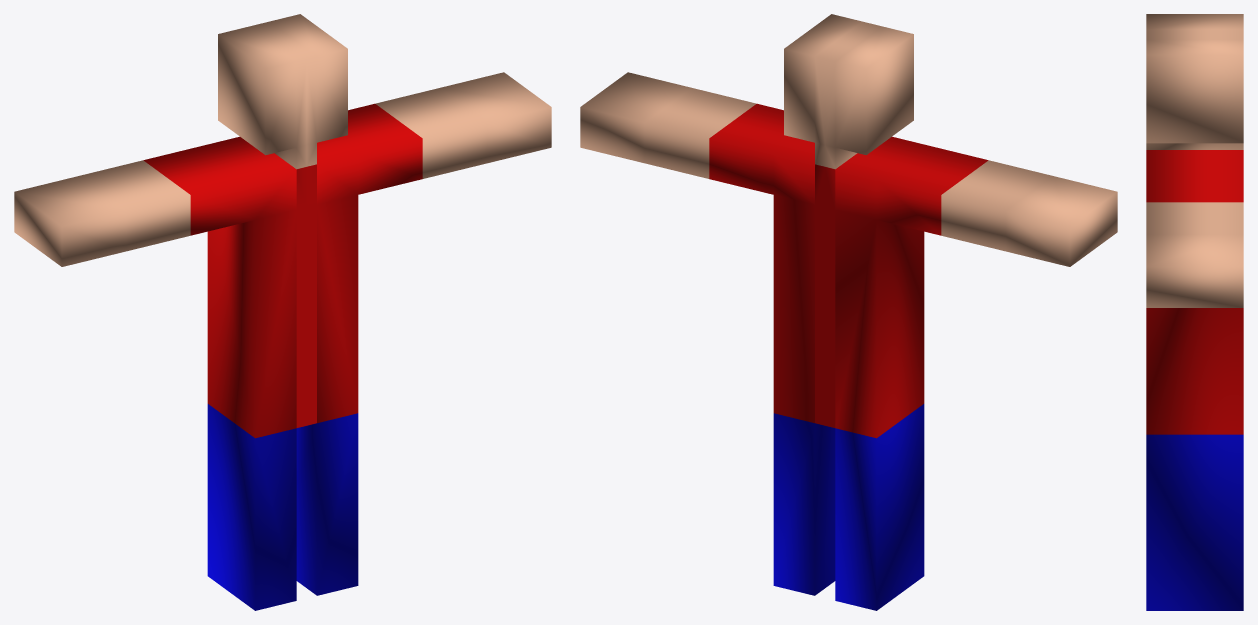
File: player1.fbx
3 renders of one model, left to right at view 1: azimuth 30°, elevation 25°; view 2: azimuth 150°, elevation 25°; view 3: azimuth 270°, elevation 25°, orthographic. The views are drawn at different scales.
Visible parts, largest first — view 1: Cube; view 2: Cube; view 3: Cube.
Boxes of the visible parts, bbox=[...] form: Cube: bbox=[14, 14, 551, 610]; Cube: bbox=[580, 14, 1117, 610]; Cube: bbox=[1146, 14, 1243, 610].
Size of the model in its own units: 1.9 by 2 by 0.32.
